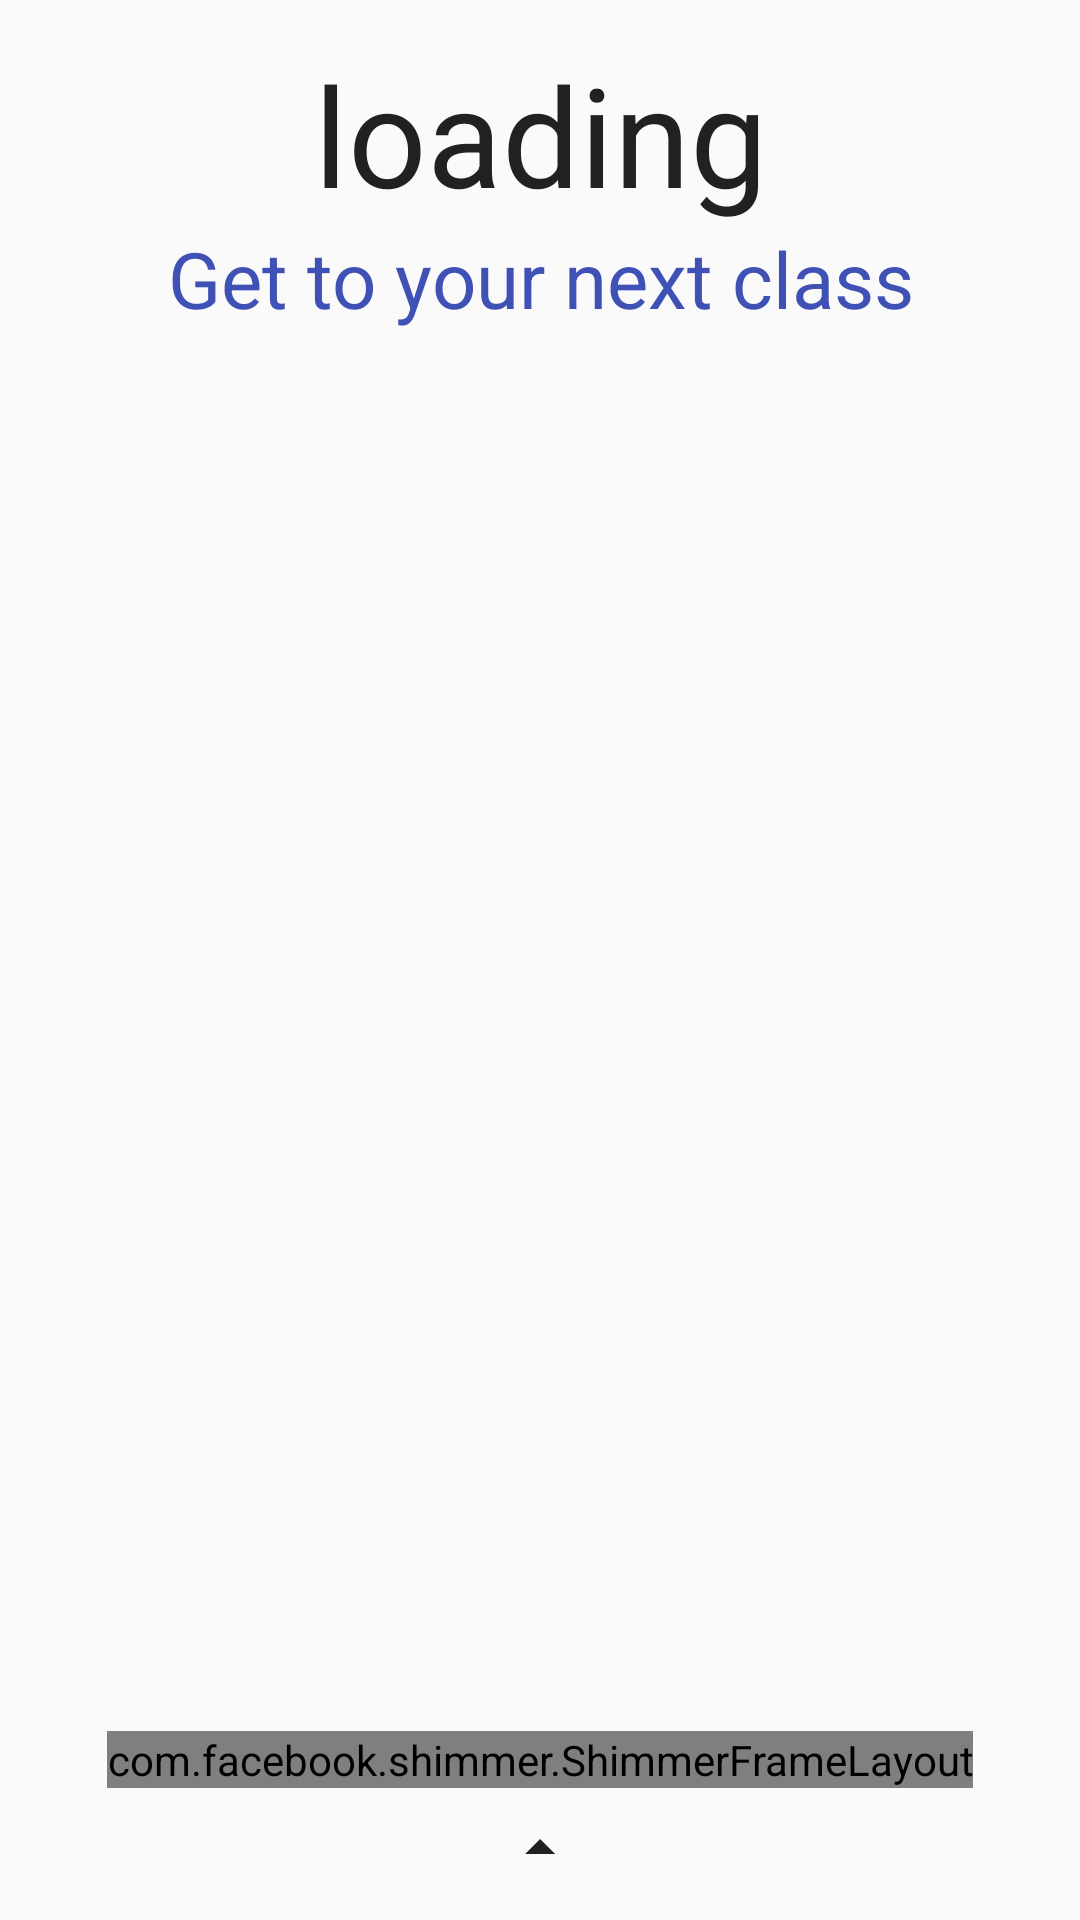

Named icons in this screenshot (1080 x 1920) and their bounding boxes, Rect(x1, y1, x2, y2):
arrow drop up: Rect(525, 1839, 555, 1854)
